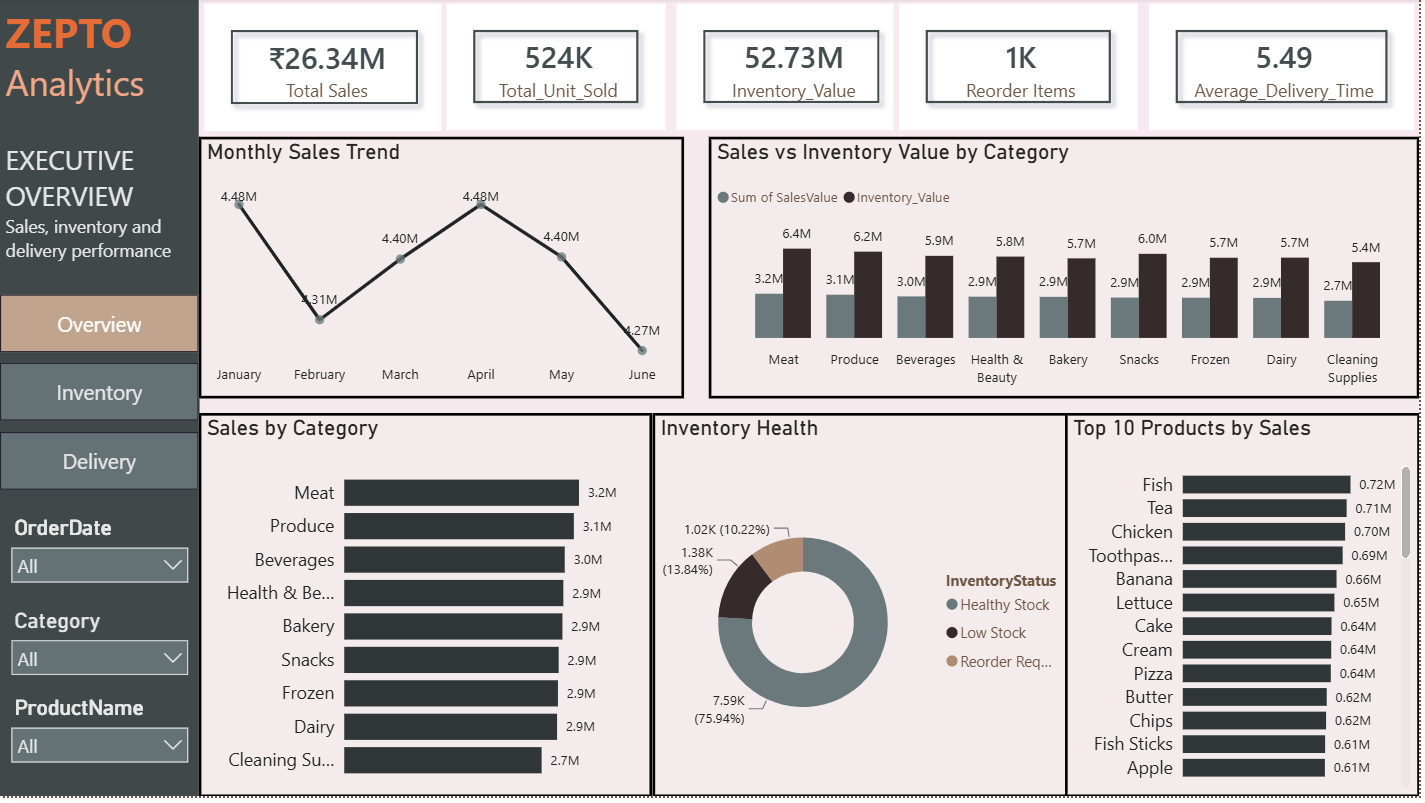

This screenshot's page, from the dashboard's own definition file:
{"tool":"powerbi","page":{"name":"Overview","canvas":[1280,720],"ordinal":0},"visuals":[{"type":"shape","box":[0,0,180,720.2],"z":0},{"type":"textbox","box":[0,0,179.8,108.8],"z":1000,"group":"g1"},{"type":"slicer","fields":{"Values":["zepto_analysis zepto_data.Category"]},"box":[0,545.4,179.8,79.5],"z":1000},{"type":"group","id":"g1","title":"Group 1","box":[0,0,180,710.5],"z":2000},{"type":"cardVisual","fields":{"Data":["Table.Total Sales"]},"box":[179.8,0,227.4,125],"z":3000},{"type":"slicer","fields":{"Values":["zepto_analysis zepto_data.OrderDate"]},"box":[0,462.2,179.8,83.2],"z":3501,"group":"g1"},{"type":"cardVisual","fields":{"Data":["Table.Total_Unit_Sold"]},"box":[397.4,0,207.9,124.7],"z":4000},{"type":"cardVisual","fields":{"Data":["Table.Inventory_Value"]},"box":[605.3,0,217.7,124.7],"z":5000},{"type":"slicer","fields":{"Values":["zepto_analysis zepto_data.ProductName"]},"box":[0,624.9,179.8,85.6],"z":5003,"group":"g1"},{"type":"textbox","box":[0,125,180,131.2],"z":5504,"group":"g1"},{"type":"cardVisual","fields":{"Data":["Table.Reorder Items"]},"box":[805.8,0,225,124.7],"z":6000},{"type":"pageNavigator","box":[0,256.8,179.8,187.1],"z":6500},{"type":"cardVisual","fields":{"Data":["Table.Average_Delivery_Time"]},"box":[1030.8,0,249.5,124.7],"z":7000},{"type":"slicer","fields":{"Values":["zepto_analysis zepto_data.OrderDate"]},"box":[0,462.2,179.8,83.2],"z":7000},{"type":"slicer","fields":{"Values":["zepto_analysis zepto_data.ProductName"]},"box":[0,624.9,179.8,85.6],"z":7500},{"type":"lineChart","title":"Monthly Sales Trend","fields":{"Category":["zepto_analysis zepto_data.OrderDate.Variation.Date Hierarchy.Month","zepto_analysis zepto_data.OrderDate.Variation.Date Hierarchy.Day"],"Y":["Sum(zepto_analysis zepto_data.SalesValue)"]},"box":[179.8,124.7,437.8,236],"z":8000},{"type":"clusteredBarChart","title":"Sales by Category","fields":{"Y":["Sum(zepto_analysis zepto_data.SalesValue)"],"Category":["zepto_analysis zepto_data.Category"]},"box":[179.8,374.2,408.4,346.1],"z":9000},{"type":"clusteredColumnChart","title":"Sales vs Inventory Value by Category","fields":{"Category":["zepto_analysis zepto_data.Category"],"Y":["Sum(zepto_analysis zepto_data.SalesValue)","Table.Inventory_Value"]},"box":[639.5,124.7,640.8,236],"z":10000},{"type":"donutChart","title":"Inventory Health","fields":{"Category":["zepto_analysis zepto_data.InventoryStatus"],"Y":["CountNonNull(zepto_analysis zepto_data.ProductID)"]},"box":[588.2,374.2,384,346.1],"z":11000},{"type":"barChart","title":"Top 10 Products by Sales","fields":{"Category":["zepto_analysis zepto_data.ProductName"],"Y":["Sum(zepto_analysis zepto_data.SalesValue)"]},"box":[960,374,320,346],"z":12000}]}

Visuals, with their boxes in screenshot pixels (x1, y1, x2, y2), scaled from the page's 1280x720 canvas onto the 1425x803 screenshot:
shape: box(0, 0, 200, 802)
textbox: box(0, 0, 200, 121)
slicer - zepto_analysis zepto_data.Category: box(0, 608, 200, 697)
"Group 1" group: box(0, 0, 200, 792)
cardVisual - Table.Total Sales: box(200, 0, 453, 139)
slicer - zepto_analysis zepto_data.OrderDate: box(0, 515, 200, 608)
cardVisual - Table.Total_Unit_Sold: box(442, 0, 674, 139)
cardVisual - Table.Inventory_Value: box(674, 0, 916, 139)
slicer - zepto_analysis zepto_data.ProductName: box(0, 697, 200, 792)
textbox: box(0, 139, 200, 286)
cardVisual - Table.Reorder Items: box(897, 0, 1148, 139)
pageNavigator: box(0, 286, 200, 495)
cardVisual - Table.Average_Delivery_Time: box(1148, 0, 1424, 139)
slicer - zepto_analysis zepto_data.OrderDate: box(0, 515, 200, 608)
slicer - zepto_analysis zepto_data.ProductName: box(0, 697, 200, 792)
"Monthly Sales Trend" lineChart: box(200, 139, 688, 402)
"Sales by Category" clusteredBarChart: box(200, 417, 655, 802)
"Sales vs Inventory Value by Category" clusteredColumnChart: box(712, 139, 1424, 402)
"Inventory Health" donutChart: box(655, 417, 1082, 802)
"Top 10 Products by Sales" barChart: box(1069, 417, 1424, 802)
